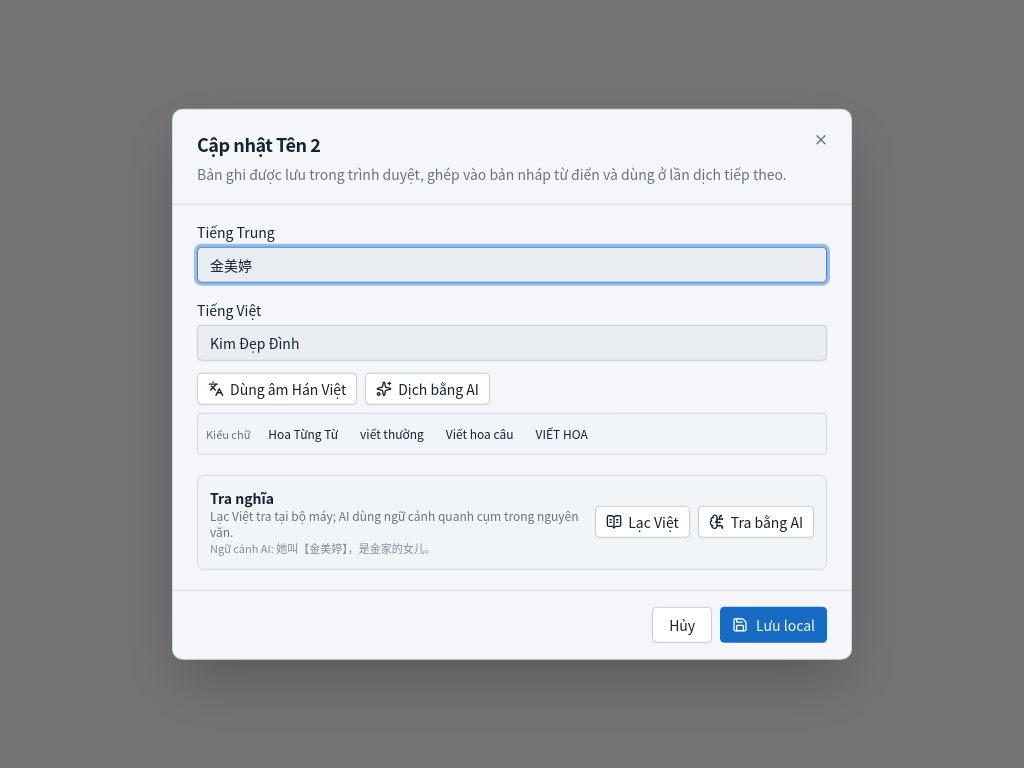
dictionary update utilities › applies all four Vietnamese casing actions
This screenshot has width=1024, height=768.
Click the button "Hoa Từng Từ": [303, 434] box [260,422,346,446]
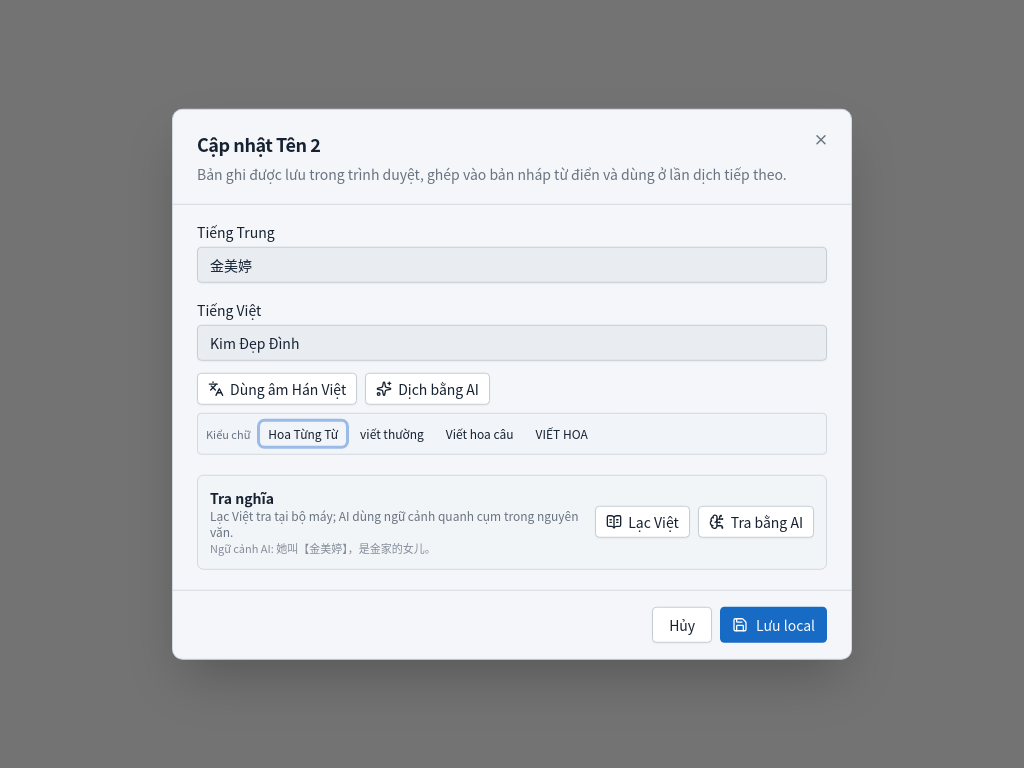
Expected: the field showing "Kim Đẹp Đình" holds "Kim Đẹp Đình", [197,325,827,361]
Click the button "VIẾT HOA": [562, 434] box [528,422,596,446]
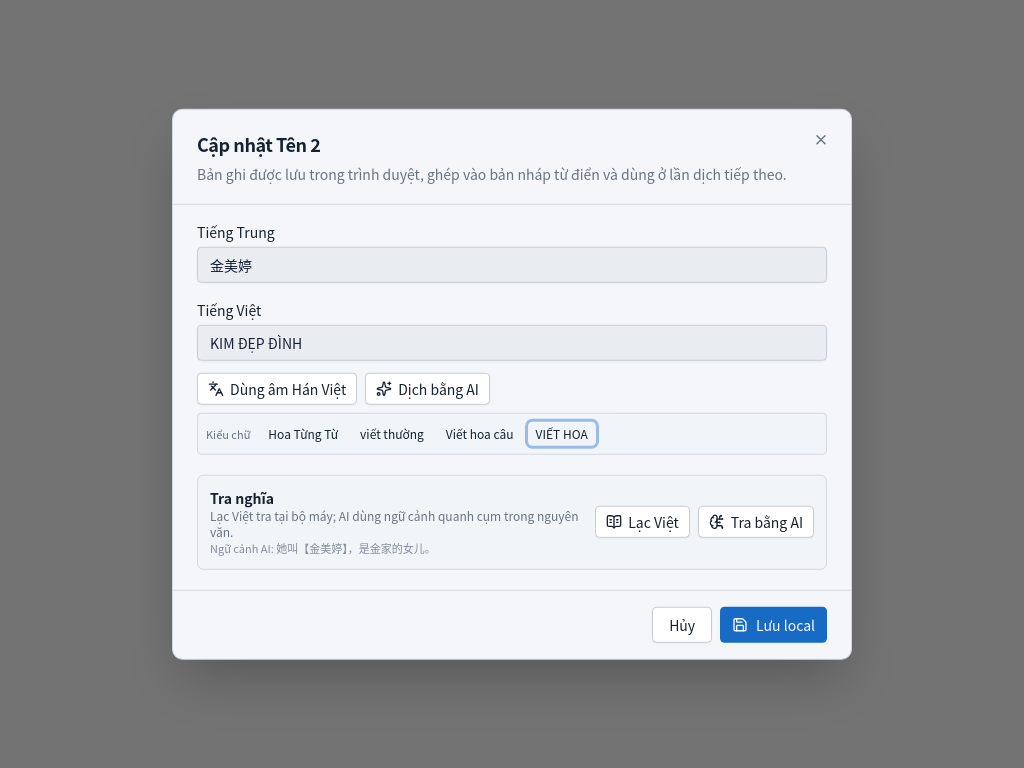
Expected: the field showing "Kim Đẹp Đình" holds "KIM ĐẸP ĐÌNH", [197,325,827,361]
Click the button "viết thường": [392, 434] box [352,422,432,446]
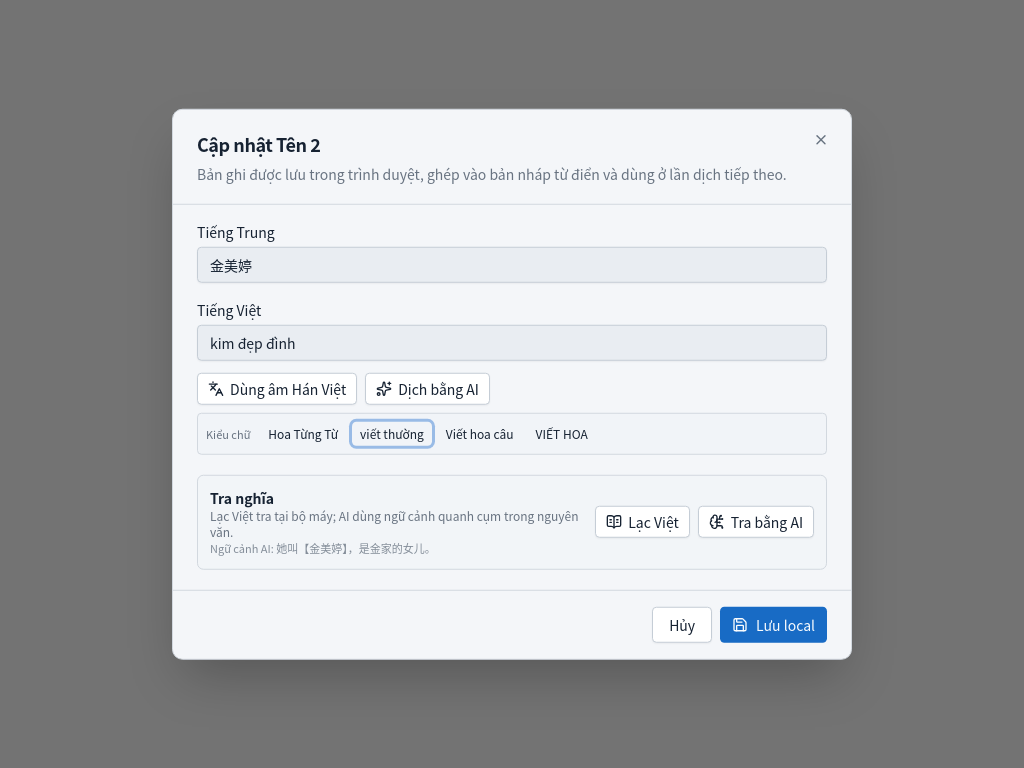
Expected: the field showing "Kim Đẹp Đình" holds "kim đẹp đình", [197,325,827,361]
Click the button "Viết hoa câu": [480, 434] box [438,422,522,446]
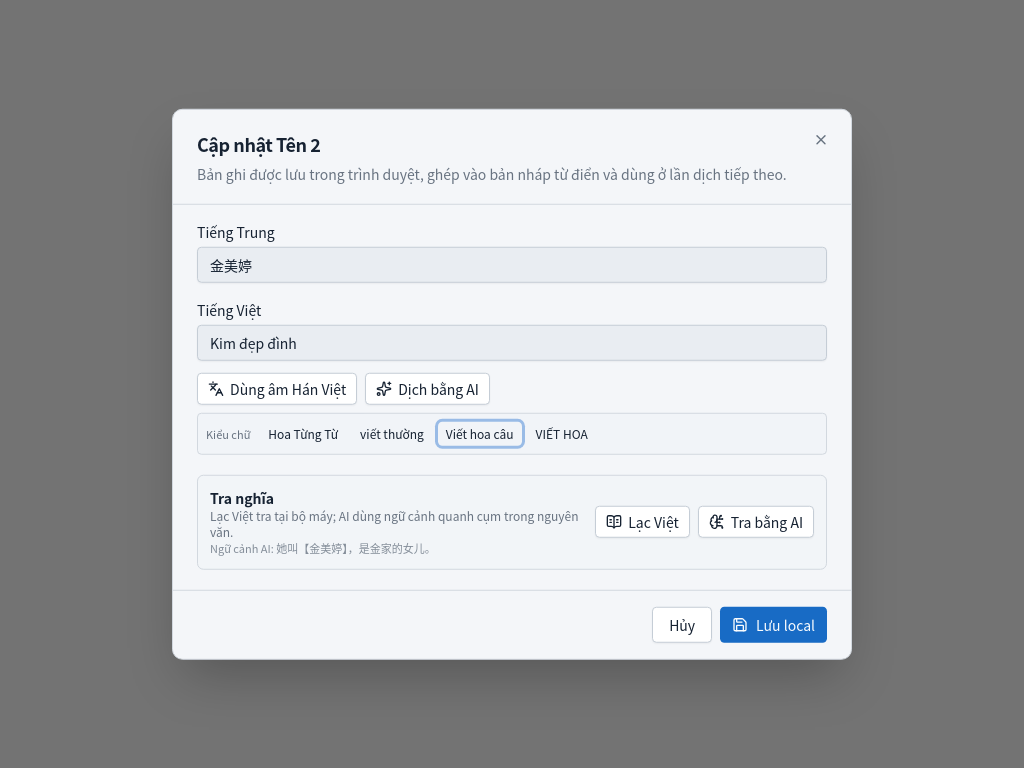
Expected: the field showing "Kim Đẹp Đình" holds "Kim đẹp đình", [197,325,827,361]
